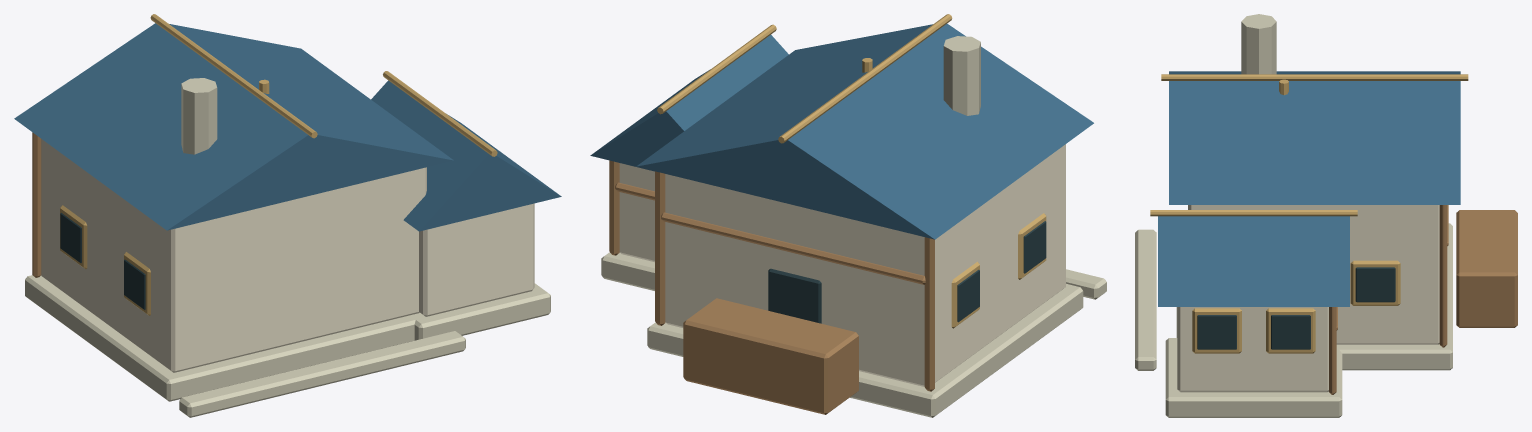
File: level_11.glb
3 renders of one model, left to right at view 1: azimuth 30°, elevation 25°; view 2: azimuth 150°, elevation 25°; view 3: azimuth 270°, elevation 25°, orthographic. The views are drawn at different scales.
Visible parts, largest first — view 1: workshop — level 11; view 2: workshop — level 11; view 3: workshop — level 11.
Boxes of the visible parts, box(x1,y1,x2,y2) form: workshop — level 11: box(14, 14, 561, 417); workshop — level 11: box(590, 14, 1106, 417); workshop — level 11: box(1135, 14, 1517, 417).
Size of the model in its own units: 5.59 by 3.68 by 4.98.
